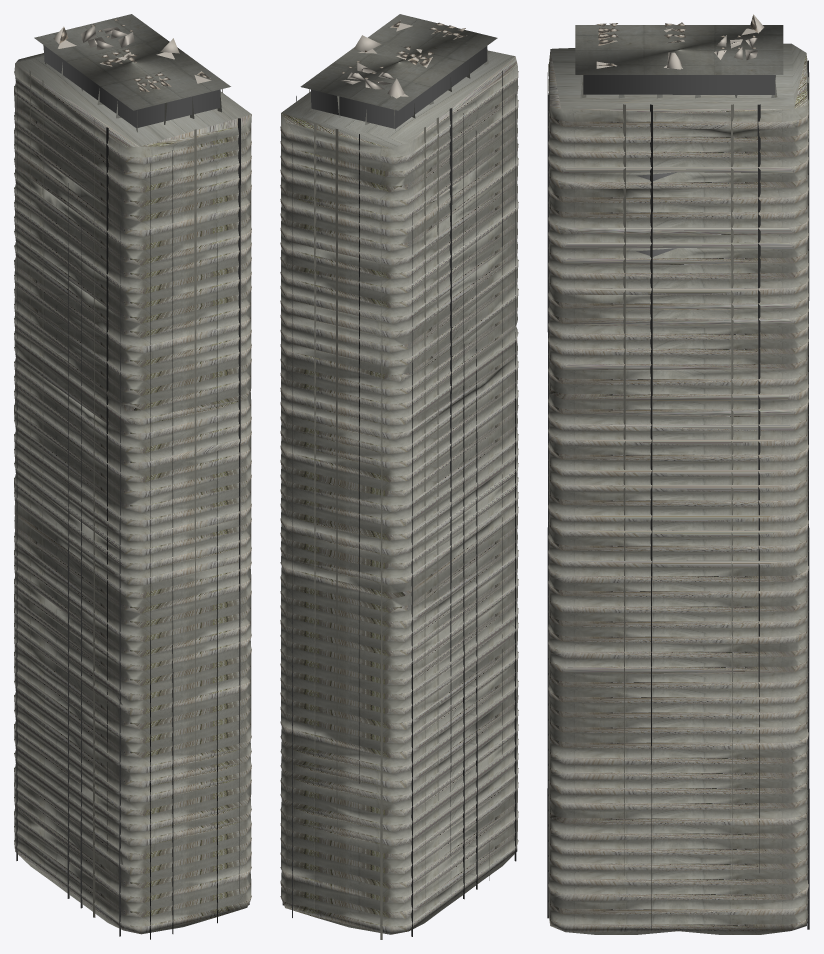
Rendered from regular tall building.glb.
3 renders of one model, left to right at view 1: azimuth 30°, elevation 25°; view 2: azimuth 150°, elevation 25°; view 3: azimuth 270°, elevation 25°, orthographic. The views are drawn at different scales.
Parts seen in each view (by area): view 1: Regular Tall Building; view 2: Regular Tall Building; view 3: Regular Tall Building.
Part boxes in pixels (left/top/right/bottom): Regular Tall Building: left=14, top=14, right=251, bottom=939; Regular Tall Building: left=280, top=14, right=518, bottom=939; Regular Tall Building: left=547, top=14, right=809, bottom=934.
Bounding box in the file's own units: 12.42 × 76.45 × 20.74.
Materials: 5 (3 with a texture image).
